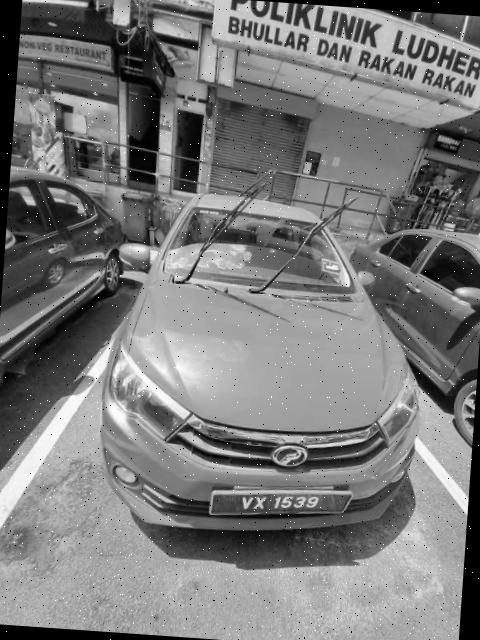License_Plate: (208, 480, 354, 526)
car: (93, 184, 436, 546)
